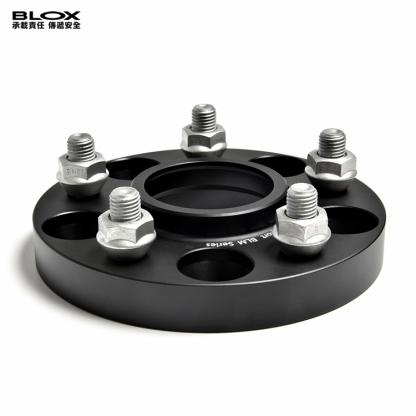FOD: (27, 134, 391, 338)
